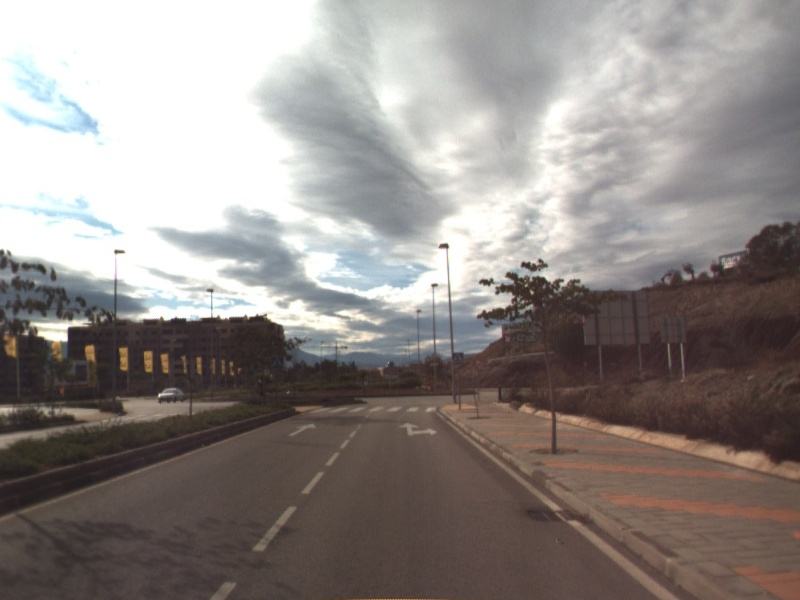STRAIGHT: (286, 421, 319, 438)
STRAIGHT_RIGHT: (397, 420, 440, 438)
